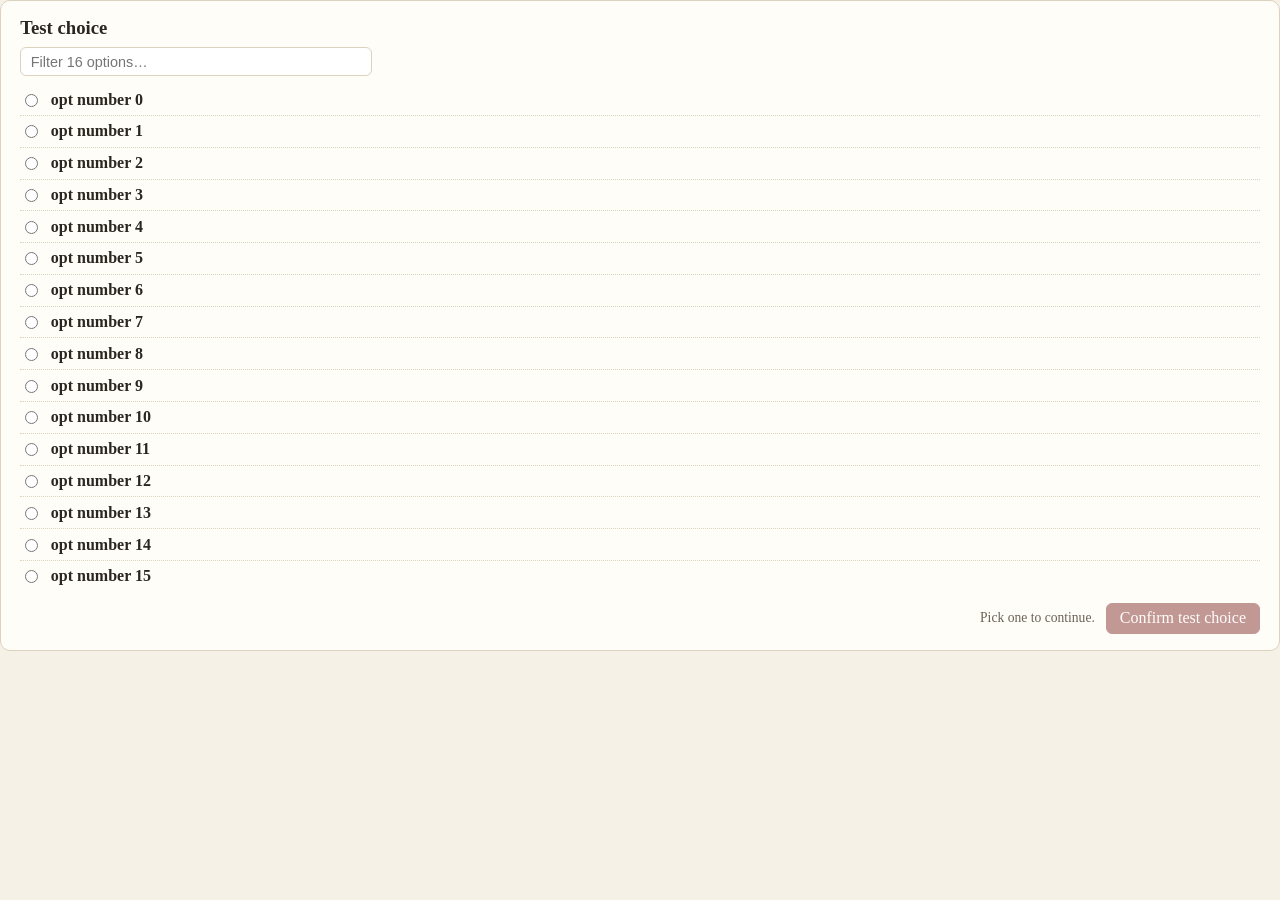
Test case: option list text filter › says so when nothing matches
Type "zzz no such thing" into the search field with test id "option-filter" showing "Filter 16 options…" at (196, 62), box [20,47,372,76]
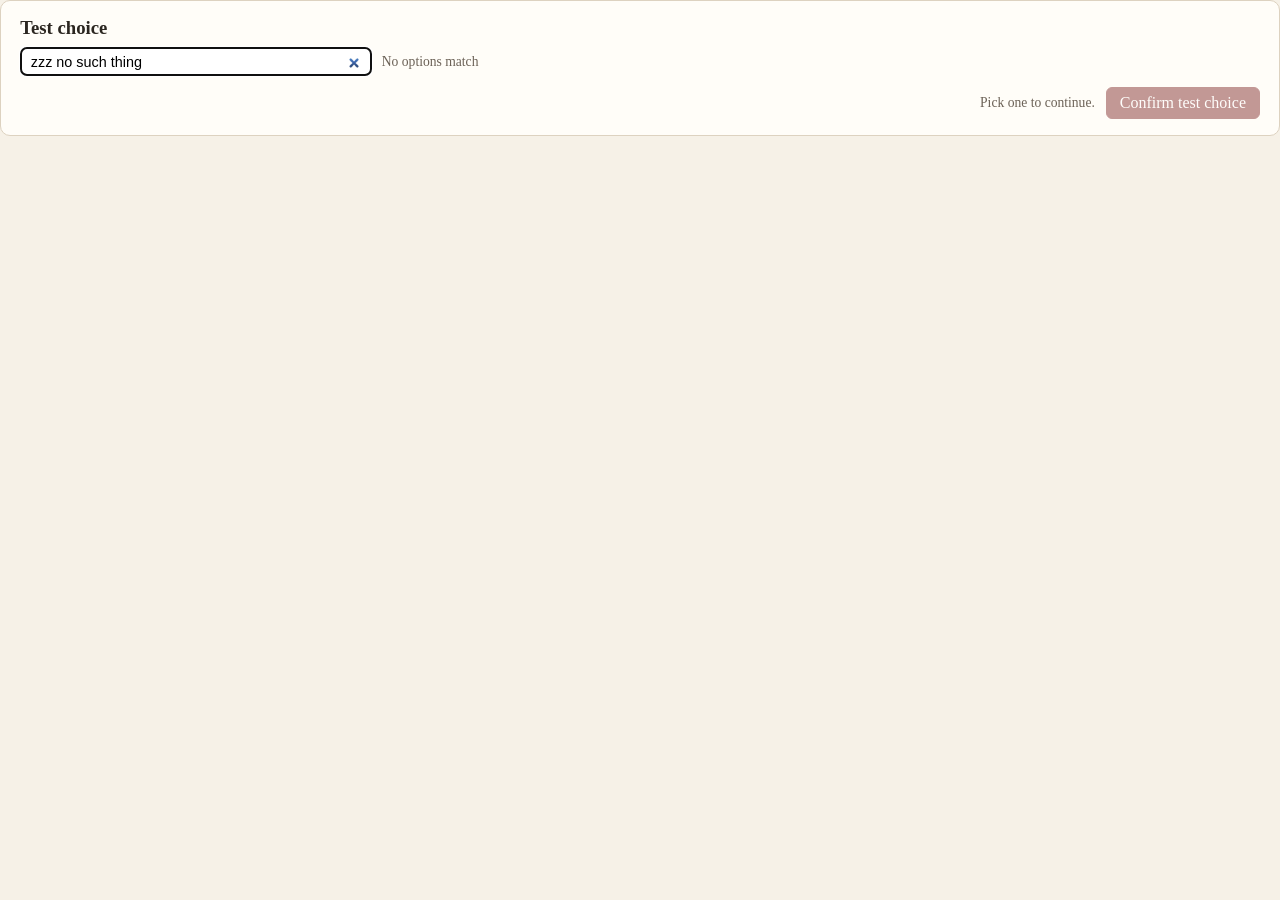
Expected: the message reads "No options match", [382,54,478,69]
Expected: no radio buttons are shown
